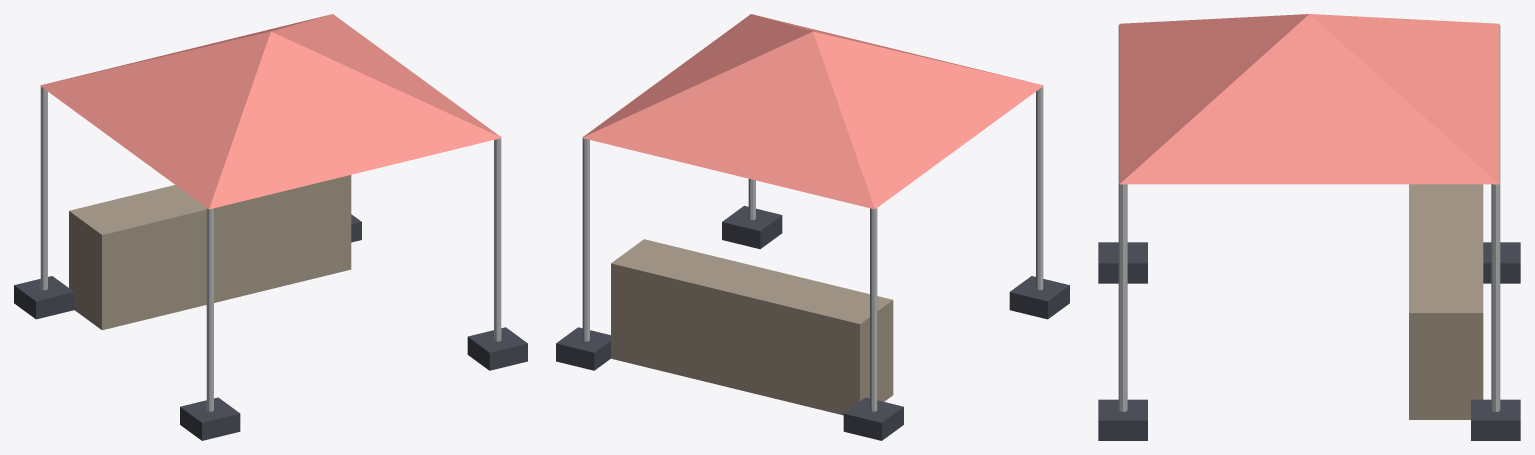
The model's file is SM_Tonnelle_secours.glb.
3 renders of one model, left to right at view 1: azimuth 30°, elevation 25°; view 2: azimuth 150°, elevation 25°; view 3: azimuth 270°, elevation 25°, orthographic. The views are drawn at different scales.
Visible parts, largest first — view 1: SM_Tonnelle_secours_4, SM_Tonnelle_secours_5, SM_Tonnelle_secours_7, SM_Tonnelle_secours_9, SM_Tonnelle_secours_6, SM_Tonnelle_secours_1, SM_Tonnelle_secours_3, SM_Tonnelle_secours_0; view 2: SM_Tonnelle_secours_4, SM_Tonnelle_secours_5, SM_Tonnelle_secours_6, SM_Tonnelle_secours_9, SM_Tonnelle_secours_7, SM_Tonnelle_secours_8, SM_Tonnelle_secours_0, SM_Tonnelle_secours_2, SM_Tonnelle_secours_1; view 3: SM_Tonnelle_secours_4, SM_Tonnelle_secours_5, SM_Tonnelle_secours_2, SM_Tonnelle_secours_3, SM_Tonnelle_secours_8, SM_Tonnelle_secours_9, SM_Tonnelle_secours_7, SM_Tonnelle_secours_6.
Part boxes in pixels (x1,y1,x2,y2): SM_Tonnelle_secours_4: [40, 14, 501, 209]; SM_Tonnelle_secours_5: [69, 175, 351, 330]; SM_Tonnelle_secours_7: [180, 397, 240, 440]; SM_Tonnelle_secours_9: [467, 327, 527, 370]; SM_Tonnelle_secours_6: [14, 276, 74, 319]; SM_Tonnelle_secours_1: [206, 208, 213, 411]; SM_Tonnelle_secours_3: [494, 136, 501, 341]; SM_Tonnelle_secours_0: [40, 84, 47, 290]; SM_Tonnelle_secours_4: [582, 14, 1043, 209]; SM_Tonnelle_secours_5: [611, 239, 893, 415]; SM_Tonnelle_secours_6: [843, 397, 903, 440]; SM_Tonnelle_secours_9: [722, 205, 782, 249]; SM_Tonnelle_secours_7: [1009, 276, 1069, 319]; SM_Tonnelle_secours_8: [556, 327, 610, 370]; SM_Tonnelle_secours_0: [870, 208, 877, 411]; SM_Tonnelle_secours_2: [582, 136, 589, 341]; SM_Tonnelle_secours_1: [1036, 84, 1043, 290]; SM_Tonnelle_secours_4: [1119, 14, 1499, 184]; SM_Tonnelle_secours_5: [1409, 184, 1483, 419]; SM_Tonnelle_secours_2: [1491, 182, 1500, 411]; SM_Tonnelle_secours_3: [1118, 182, 1127, 411]; SM_Tonnelle_secours_8: [1471, 399, 1520, 440]; SM_Tonnelle_secours_9: [1098, 399, 1147, 440]; SM_Tonnelle_secours_7: [1098, 242, 1147, 283]; SM_Tonnelle_secours_6: [1483, 242, 1520, 283].
Bounding box in the file's own units: 3.4 × 3 × 3.4.
